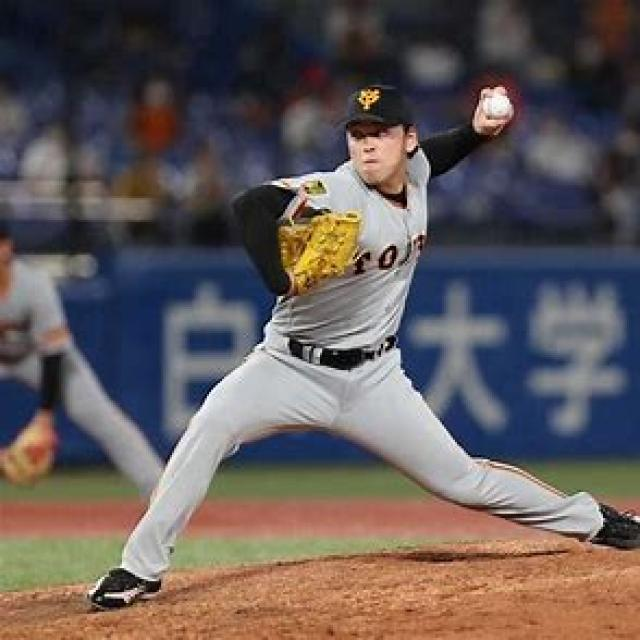ball: (480, 95, 512, 120)
